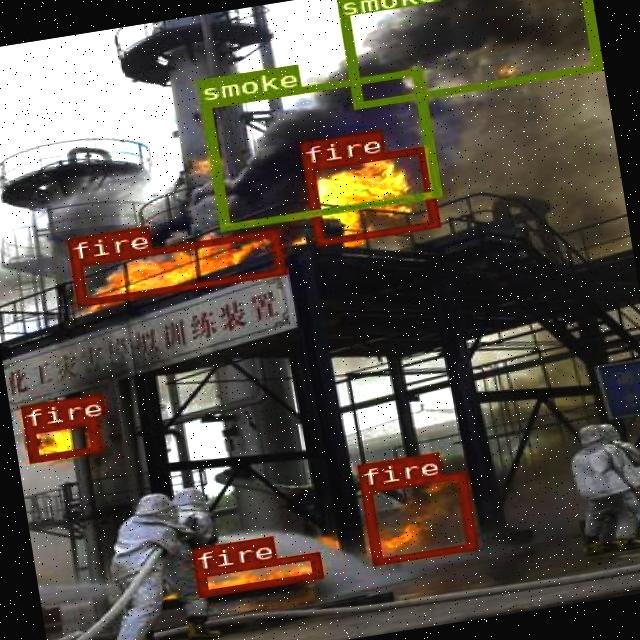fire: (70, 229, 283, 306), (303, 146, 437, 244), (360, 470, 476, 565), (194, 552, 320, 596), (23, 417, 100, 462)
smoke: (199, 68, 438, 230), (333, 0, 599, 107)
